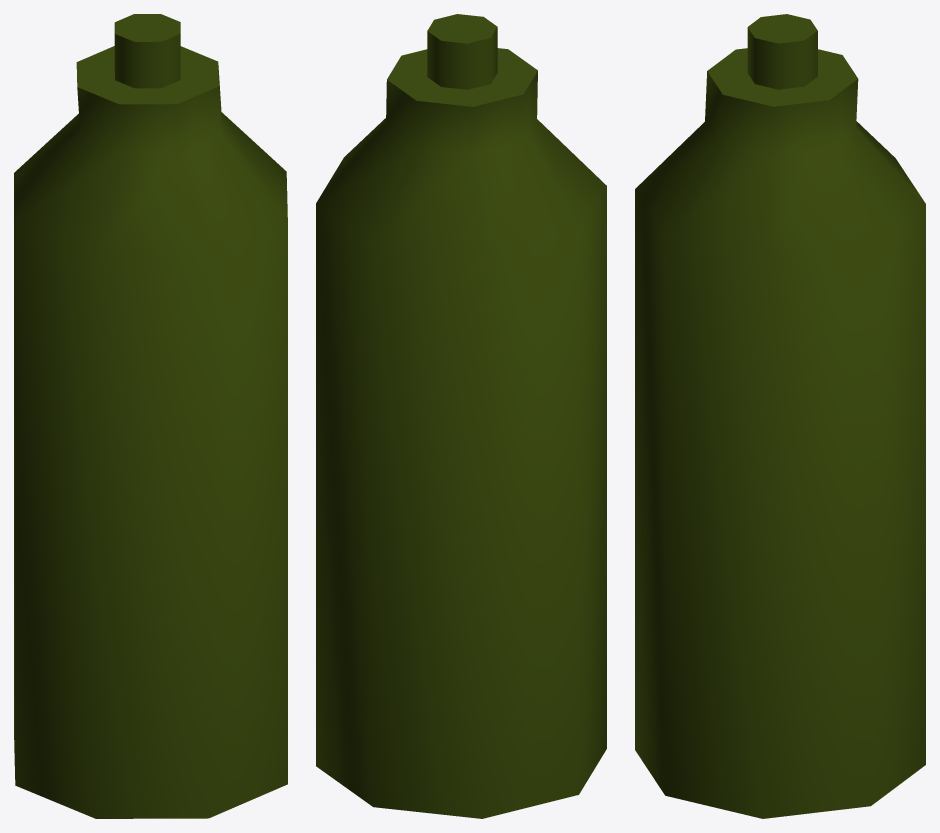
File: Can1_M.fbx
The picture shows the model from 3 angles, left to right: view 1: azimuth 30°, elevation 25°; view 2: azimuth 150°, elevation 25°; view 3: azimuth 270°, elevation 25°; orthographic projection.
Parts seen in each view (by area): view 1: Can1; view 2: Can1; view 3: Can1.
Boxes of the visible parts, <box> form: Can1: <box>14,14,287,818</box>; Can1: <box>316,14,606,818</box>; Can1: <box>635,14,925,818</box>.
Bounding box in the file's own units: 0.0332 × 0.0917 × 0.0332.
